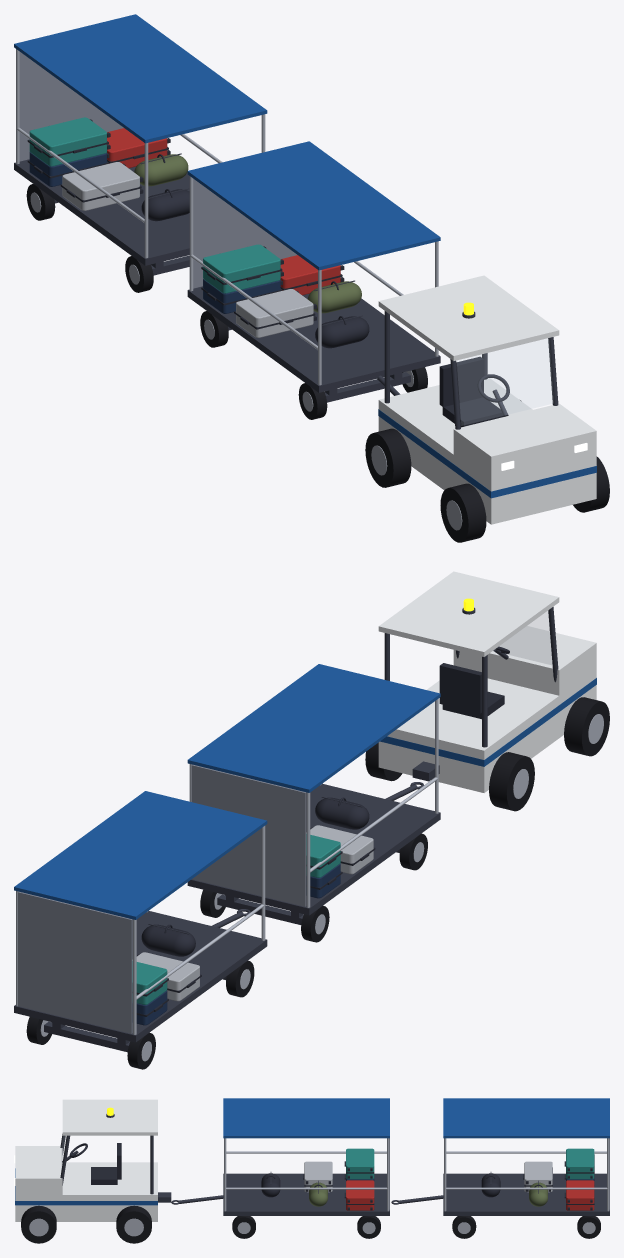
Rendered from air-013.glb.
The picture shows the model from 3 angles, top to bottom: view 1: azimuth 30°, elevation 25°; view 2: azimuth 150°, elevation 25°; view 3: azimuth 270°, elevation 25°; orthographic projection. The views are drawn at different scales.
Visible parts, largest first — view 1: airline_blue, white, dark_steel, locker_grey, rubber, plastic_dark, glass_clear, steel, shell_teal, shell_silver, shell_red, duffel_fabric (+1 smaller); view 2: airline_blue, white, locker_grey, dark_steel, rubber, plastic_dark, steel, shell_silver, shell_teal, glass_clear, shell_navy; view 3: airline_blue, white, dark_steel, steel, rubber, plastic_dark, shell_teal, shell_red, shell_silver, duffel_fabric.
Part boxes in pixels (<box>): airline_blue: <box>14,14,596,498</box>; white: <box>378,275,596,524</box>; dark_steel: <box>14,153,558,429</box>; locker_grey: <box>19,52,296,288</box>; rubber: <box>26,184,609,542</box>; plastic_dark: <box>27,119,509,427</box>; glass_clear: <box>457,338,553,425</box>; steel: <box>16,49,462,530</box>; shell_teal: <box>29,117,280,293</box>; shell_silver: <box>62,162,313,337</box>; shell_red: <box>107,128,340,295</box>; duffel_fabric: <box>134,154,361,313</box>; airline_blue: <box>14,664,596,919</box>; white: <box>378,571,596,792</box>; locker_grey: <box>18,764,306,1033</box>; dark_steel: <box>14,607,558,1052</box>; rubber: <box>26,697,609,1069</box>; plastic_dark: <box>132,646,509,1016</box>; steel: <box>16,699,603,1061</box>; shell_silver: <box>132,825,373,1001</box>; shell_teal: <box>132,834,340,1004</box>; glass_clear: <box>500,611,551,664</box>; shell_navy: <box>132,863,340,1025</box>; airline_blue: <box>15,1098,609,1205</box>; white: <box>15,1099,157,1221</box>; dark_steel: <box>60,1114,609,1215</box>; steel: <box>29,1138,609,1236</box>; rubber: <box>21,1205,600,1243</box>; plastic_dark: <box>69,1143,594,1210</box>; shell_teal: <box>346,1148,594,1179</box>; shell_red: <box>346,1180,594,1210</box>; shell_silver: <box>304,1161,552,1192</box>; duffel_fabric: <box>309,1182,547,1206</box>.
Size of the model in its own units: 1.75 by 2.09 by 10.02.
